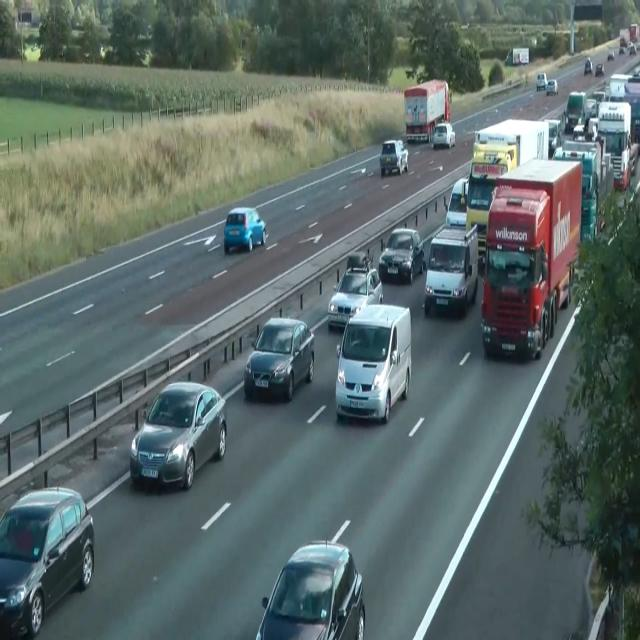bus: (0, 484, 94, 638), (256, 537, 366, 639), (129, 380, 227, 490), (243, 315, 314, 401), (327, 252, 383, 330), (378, 226, 426, 284), (224, 206, 266, 254), (444, 177, 468, 227), (379, 140, 408, 176), (543, 119, 561, 155), (432, 122, 456, 148), (572, 124, 586, 140), (536, 72, 547, 91), (546, 78, 558, 95), (584, 58, 592, 74), (595, 63, 604, 77), (627, 42, 636, 54), (607, 51, 615, 60), (619, 47, 625, 55)
jeep: (334, 301, 412, 423), (423, 222, 479, 316)
minibus: (478, 157, 582, 360), (465, 118, 549, 255), (552, 140, 602, 242), (473, 118, 549, 171), (465, 160, 506, 254), (596, 101, 632, 191), (404, 78, 451, 143), (608, 73, 640, 146), (564, 91, 586, 133), (619, 22, 639, 50), (504, 46, 529, 66)
